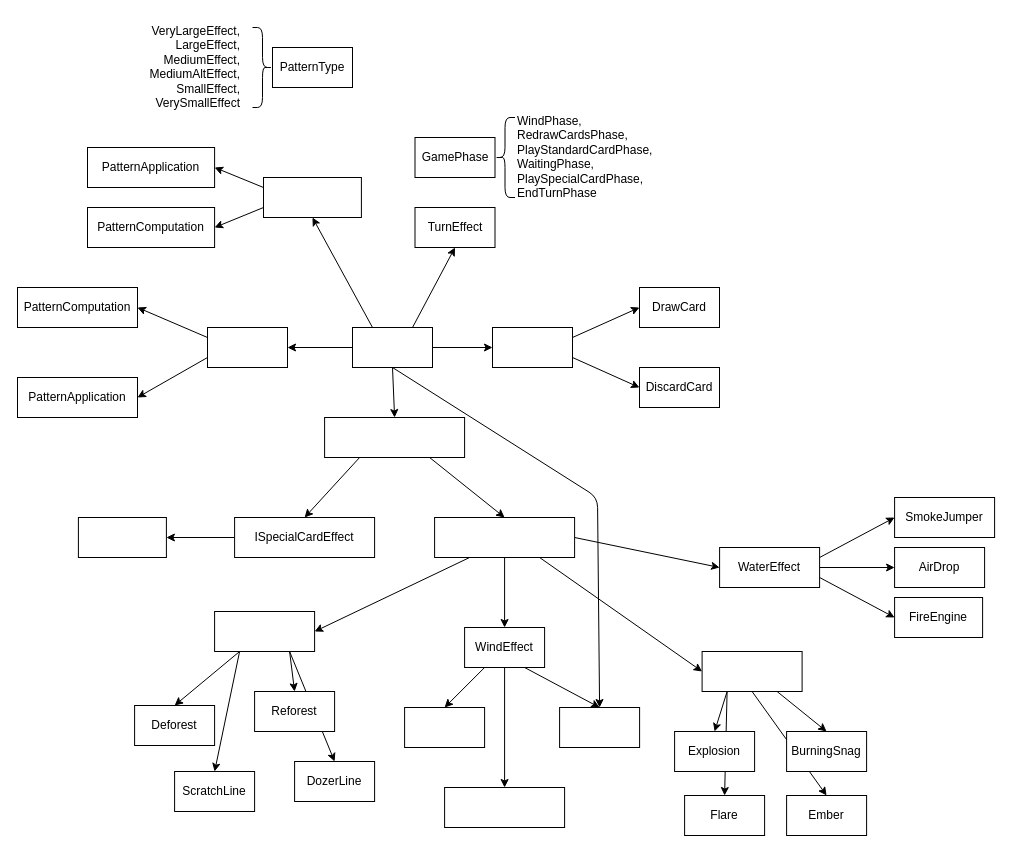
This 1013x853 diagram has some shape labels left out. Each missing label, with the centre of its shape:
Bucket: pixel 121 537
FirebreakEffect: pixel 264 631
FireEffect: pixel 751 671
HandEffect: pixel 532 347
ICardEffect: pixel 394 437
IGameEffect: pixel 392 347
IStandardCardEffect: pixel 504 537
PatternEffect: pixel 311 197
PlaceFire: pixel 599 727
RandomUpdateWind: pixel 504 807
StepEffect: pixel 247 347
UpdateWind: pixel 444 727
